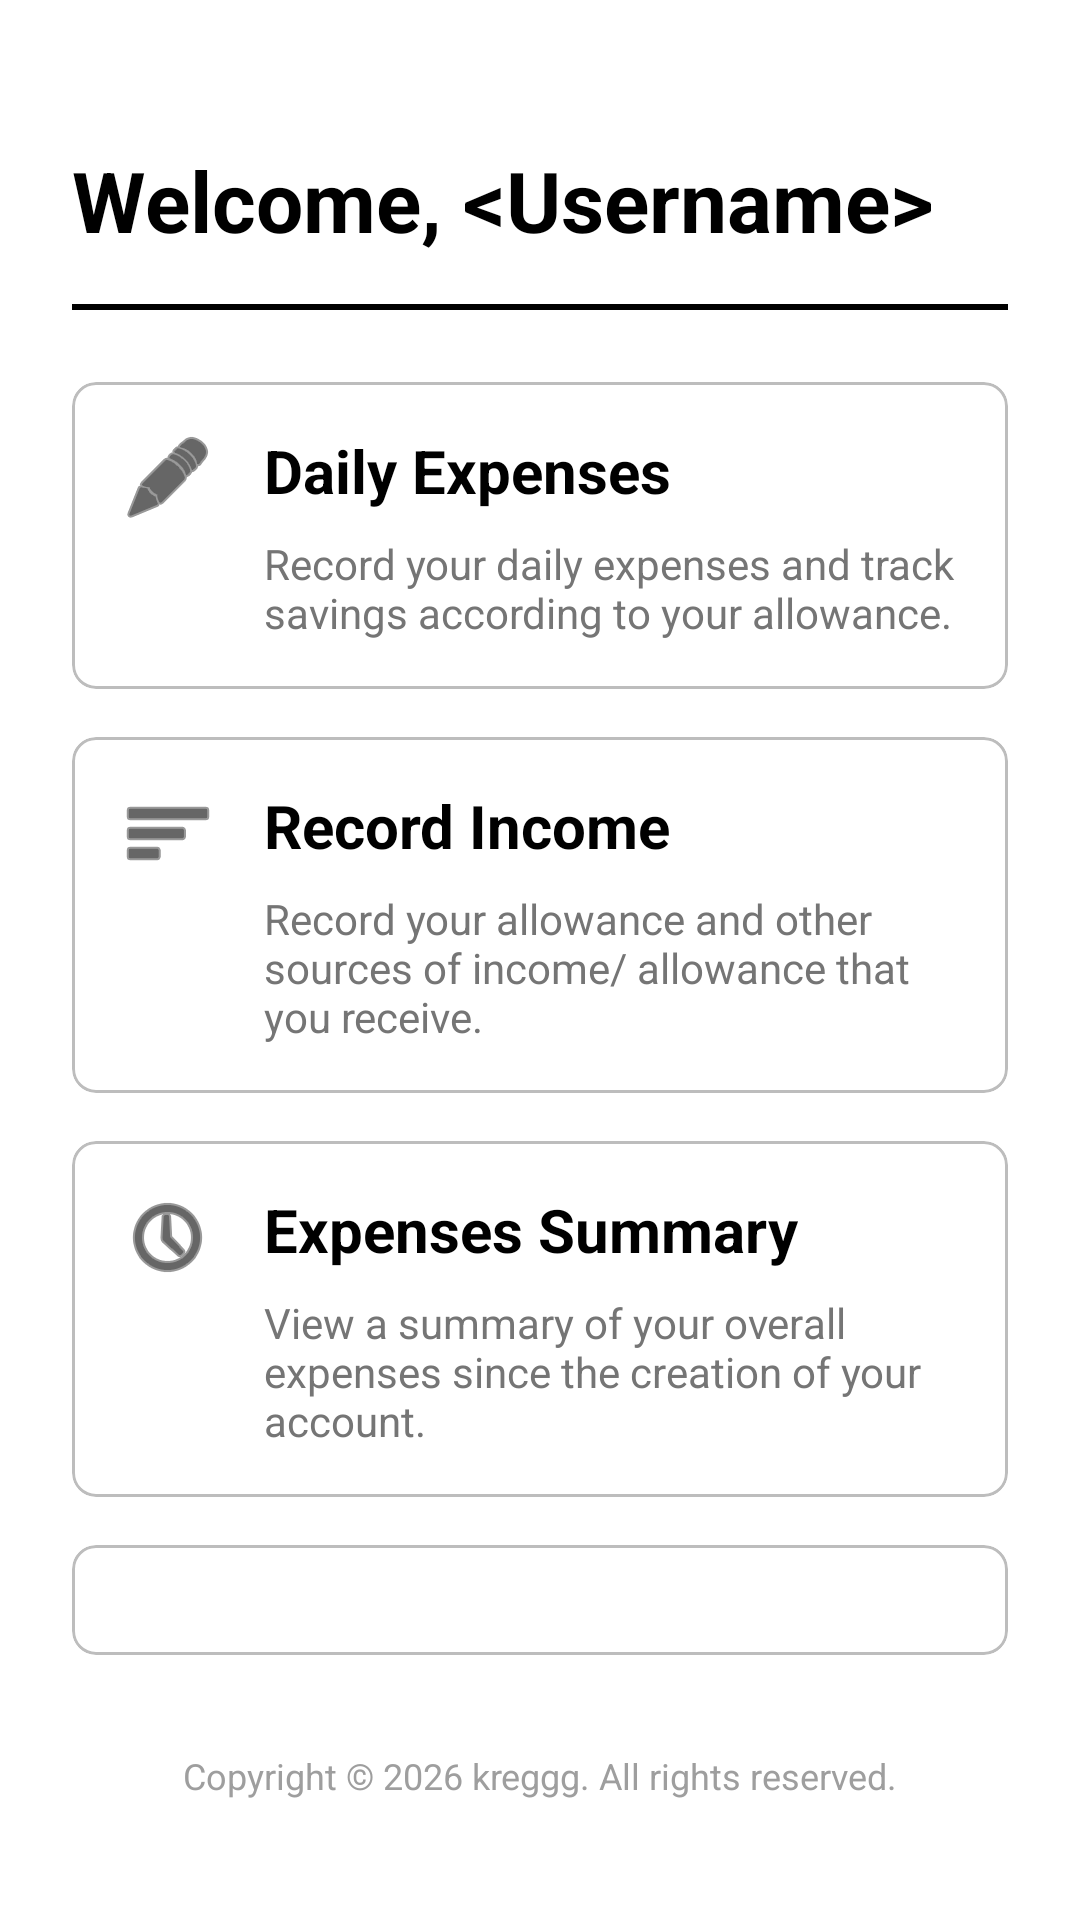

Point at icon controls on the screen. Image size 1080 × 1920, points as point (x, y).
edit: point (167, 477)
recent history: point (167, 1237)
sort by size: point (168, 833)
